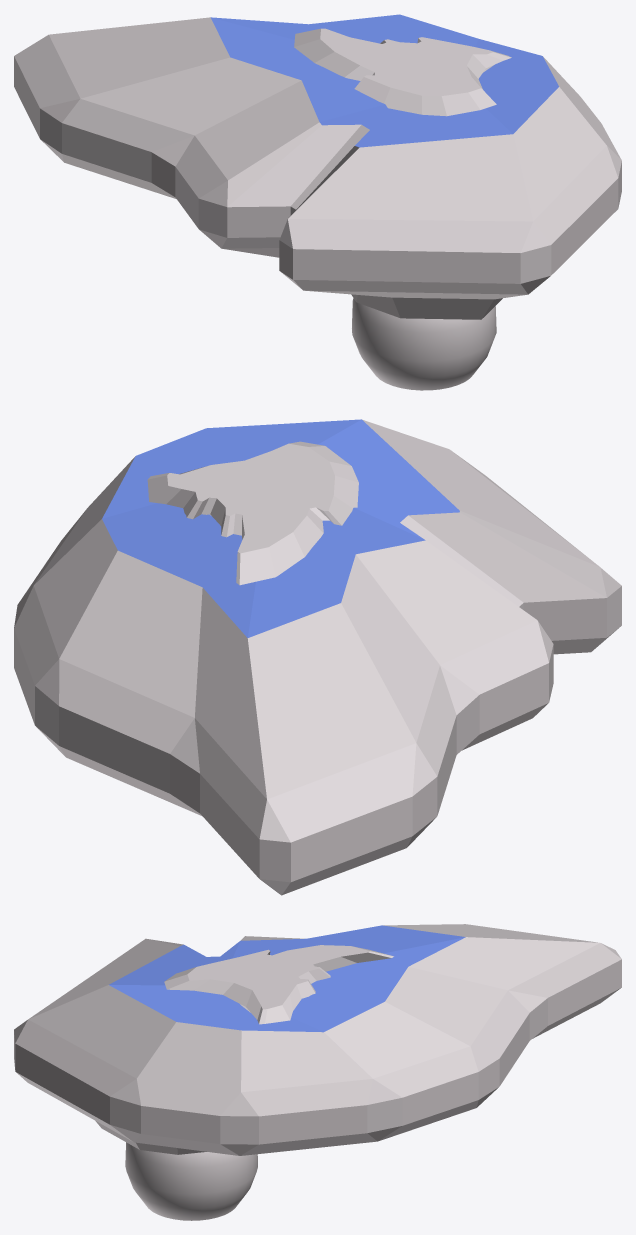
File: TWS Right.fbx
3 views of the same model, one above another, from view 1: azimuth 30°, elevation 25°; view 2: azimuth 150°, elevation 25°; view 3: azimuth 270°, elevation 25° (orthographic). The views are drawn at different scales.
Parts seen in each view (by area): view 1: TWS Right; view 2: TWS Right; view 3: TWS Right.
Boxes of the visible parts, left/top/right/bottom form: TWS Right: left=14, top=14, right=621, bottom=390; TWS Right: left=14, top=419, right=621, bottom=895; TWS Right: left=14, top=924, right=621, bottom=1220.
Bounding box in the file's own units: 692 × 449 × 979.
